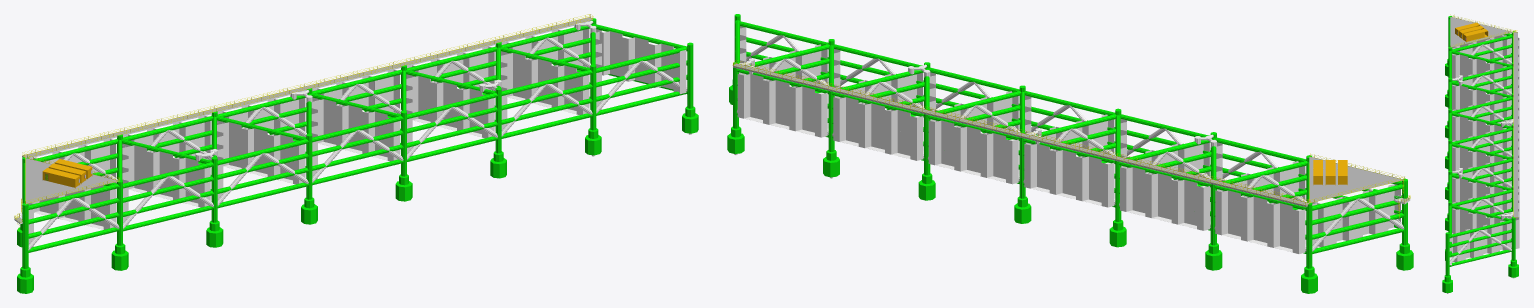
File: 02__walkway-utility.glb
The picture shows the model from 3 angles, left to right: view 1: azimuth 30°, elevation 25°; view 2: azimuth 150°, elevation 25°; view 3: azimuth 270°, elevation 25°; orthographic projection. The views are drawn at different scales.
Visible parts, largest first — view 1: 3D Solid.126, ACPPSTRUCTURERAILING.003; view 2: 3D Solid.126, ACPPSTRUCTURERAILING.003; view 3: 3D Solid.126, ACPPSTRUCTURERAILING.003.
Part boxes in pixels (bbox=[...]): 3D Solid.126: bbox=[17, 18, 698, 293]; ACPPSTRUCTURERAILING.003: bbox=[14, 14, 593, 230]; 3D Solid.126: bbox=[727, 14, 1413, 293]; ACPPSTRUCTURERAILING.003: bbox=[732, 60, 1410, 217]; 3D Solid.126: bbox=[1442, 16, 1519, 293]; ACPPSTRUCTURERAILING.003: bbox=[1450, 14, 1517, 218].
Size of the model in its own units: 248 by 34.83 by 36.51.
